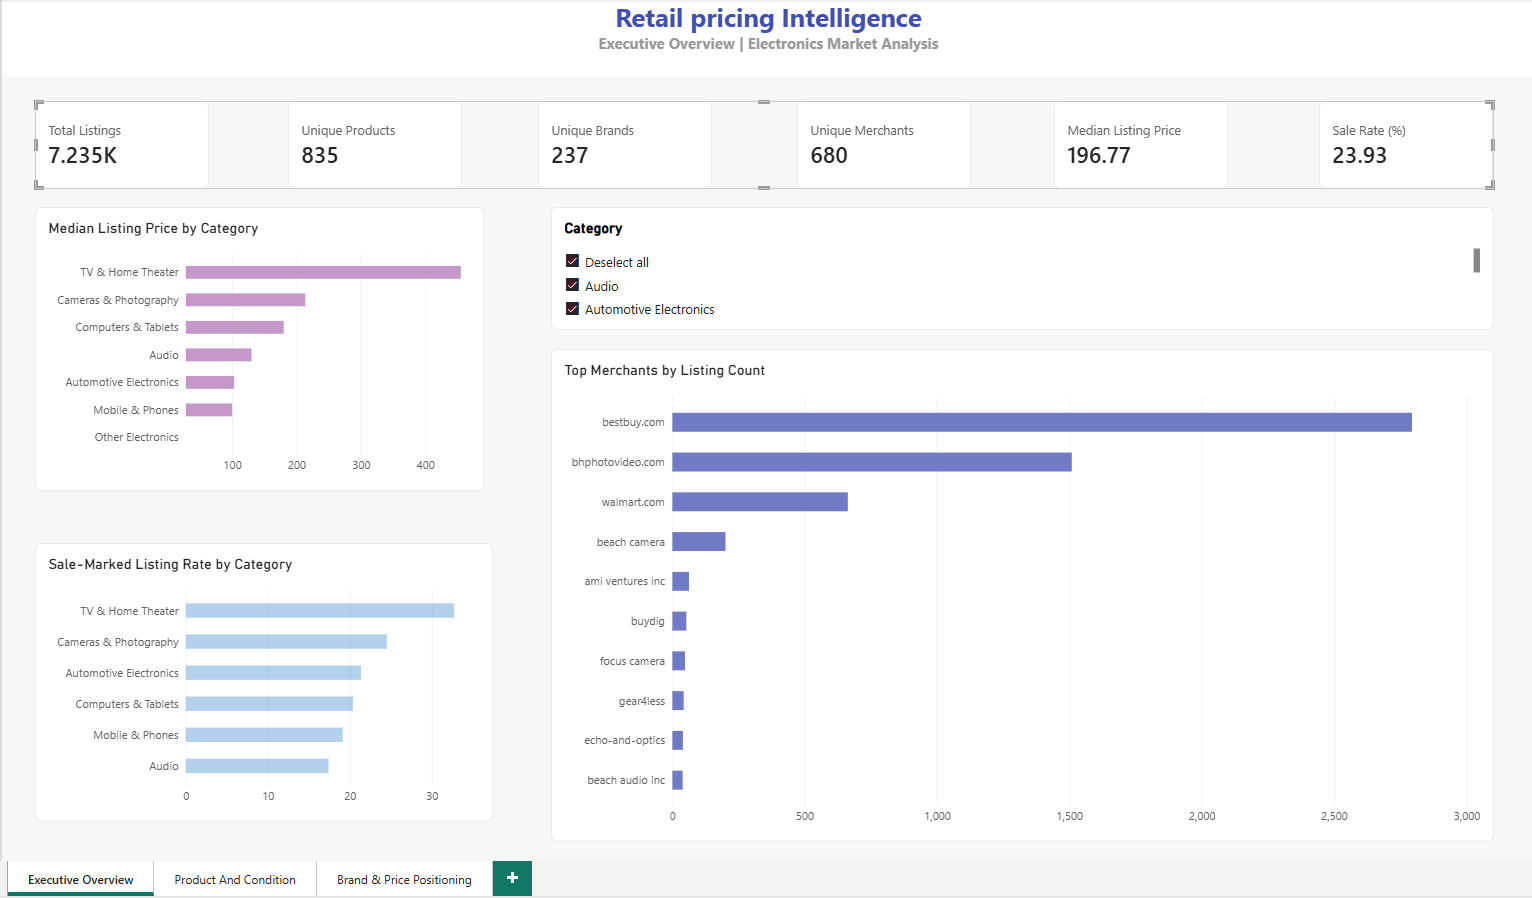

The page's visual inventory and layout, read from the dashboard file:
{"tool":"powerbi","page":{"name":"Executive Overview","canvas":[1920,1080],"ordinal":0},"visuals":[{"type":"textbox","box":[0,0,1920.6,98.4],"z":0},{"type":"cardVisual","fields":{"Data":["CountNonNull(electronics_pricing_clean.id)"]},"box":[41.7,140.6,218.2,144.1],"z":1000,"group":"g1"},{"type":"cardVisual","fields":{"Data":["Count(electronics_pricing_clean.id)"]},"box":[307.5,140,218.2,144.1],"z":2000,"group":"g1"},{"type":"cardVisual","fields":{"Data":["Count(electronics_pricing_clean.brand_clean)"]},"box":[572.4,140,218.2,144.1],"z":3000,"group":"g1"},{"type":"cardVisual","fields":{"Data":["Count(electronics_pricing_clean.merchant_clean)"]},"box":[844.3,140,218.2,144.1],"z":4000,"group":"g1"},{"type":"cardVisual","fields":{"Data":["Median(electronics_pricing_clean.price)"]},"box":[1133.3,140,218.2,144.1],"z":5000,"group":"g1"},{"type":"cardVisual","fields":{"Data":["electronics_pricing_clean.Sale Rate Display"]},"box":[1398.2,140,218.2,144.1],"z":6000,"group":"g1"},{"type":"clusteredBarChart","title":"Median Listing  Price by Category","fields":{"Category":["electronics_pricing_clean.category_clean"],"Y":["Median(electronics_pricing_clean.price)"]},"box":[46.5,344,562.5,355.6],"z":7000},{"type":"clusteredBarChart","fields":{"Category":["electronics_pricing_clean.category_clean"],"Y":["electronics_pricing_clean.Sale Rate %"]},"box":[41.9,717.4,573.7,349.3],"z":8000},{"type":"clusteredBarChart","title":"Top Merchants by Listing Count","fields":{"Category":["electronics_pricing_clean.merchant_clean"],"Y":["CountNonNull(electronics_pricing_clean.id)"]},"box":[688.2,344.1,1199.1,722.6],"z":9000},{"type":"listSlicer","title":"Category","fields":{"Values":["electronics_pricing_clean.category_clean"]},"box":[1652.9,140,249.5,144.5],"z":10000,"group":"g1"},{"type":"group","id":"g1","title":"Group 1","box":[41.7,140,1861,145.4],"z":10001},{"type":"textbox","box":[0,162.5,218,150],"z":10002}]}

Visuals, with their boxes on the page's 1920x1080 design canvas (x1, y1, x2, y2). These are canvas units, not pixel positions in the 1532x898 screenshot, which may show the page scaled, cropped or inside an application window:
textbox: 0, 0, 1921, 98
cardVisual - CountNonNull(electronics_pricing_clean.id): 42, 141, 260, 285
cardVisual - Count(electronics_pricing_clean.id): 308, 140, 526, 284
cardVisual - Count(electronics_pricing_clean.brand_clean): 572, 140, 791, 284
cardVisual - Count(electronics_pricing_clean.merchant_clean): 844, 140, 1062, 284
cardVisual - Median(electronics_pricing_clean.price): 1133, 140, 1352, 284
cardVisual - electronics_pricing_clean.Sale Rate Display: 1398, 140, 1616, 284
"Median Listing  Price by Category" clusteredBarChart: 46, 344, 609, 700
clusteredBarChart - electronics_pricing_clean.category_clean x electronics_pricing_clean.Sale Rate %: 42, 717, 616, 1067
"Top Merchants by Listing Count" clusteredBarChart: 688, 344, 1887, 1067
"Category" listSlicer: 1653, 140, 1902, 284
"Group 1" group: 42, 140, 1903, 285
textbox: 0, 162, 218, 312
